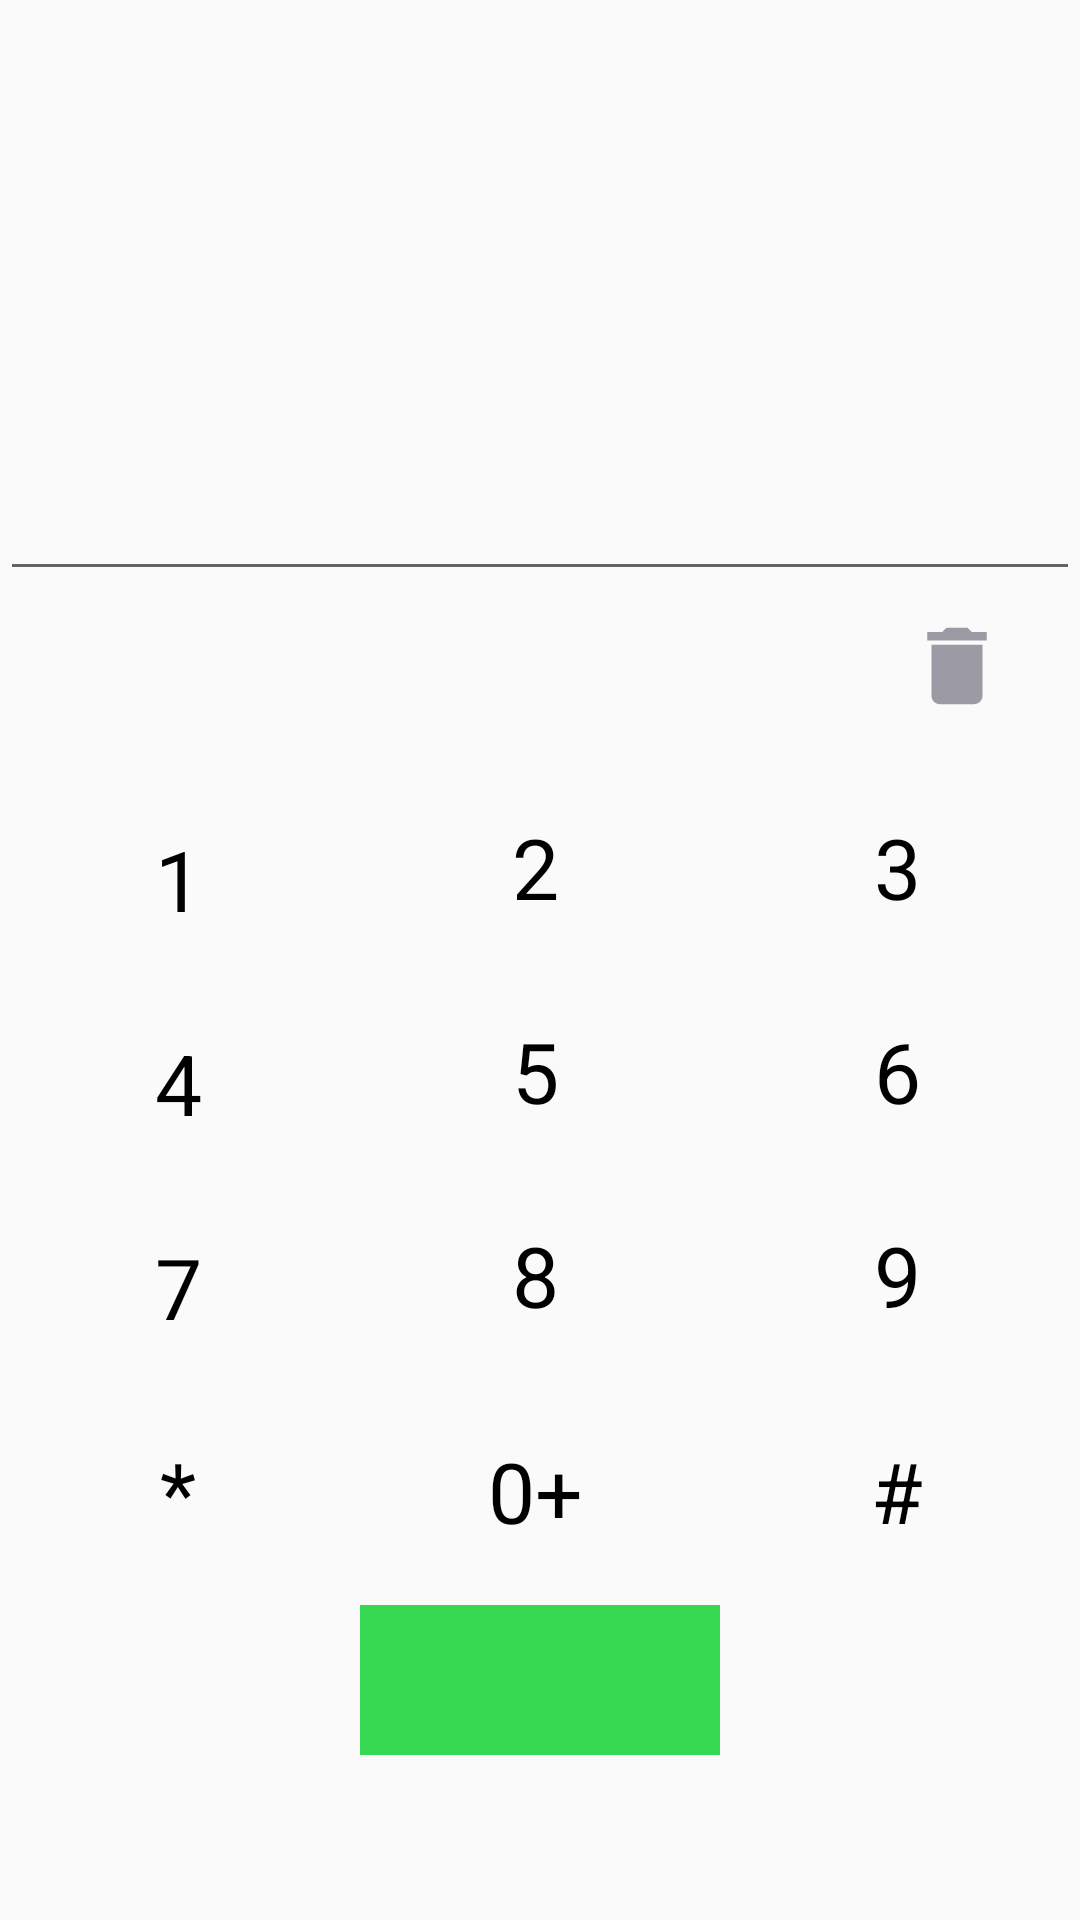

Icons on this 1080px x 1920px Android screen, each with the point to tap as point (x, y):
delete: point (957, 666)
